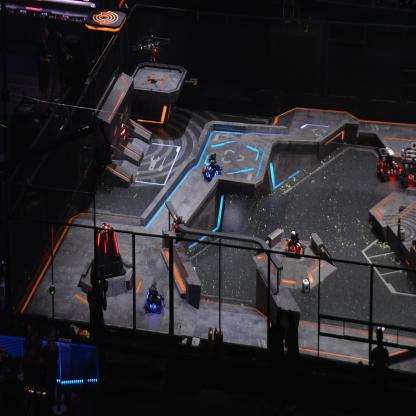car: (376, 145, 402, 182), (398, 146, 416, 190), (144, 280, 164, 315), (202, 152, 223, 184), (285, 229, 306, 259), (112, 120, 128, 144)
